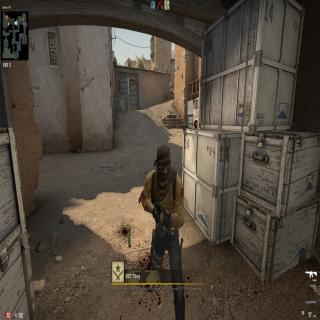T-Head: (154, 140, 173, 184)
